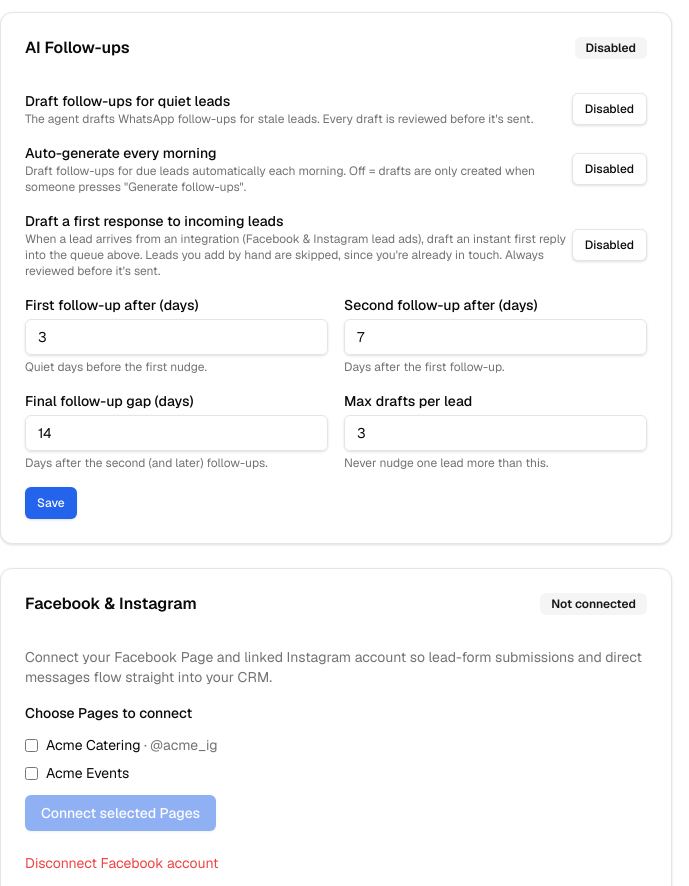
Test: Settings → Integrations → Facebook & Instagram › surfaces per-Page failures instead of pretending they connected
The image size is (689, 886).
(page scrolled)
Click the checkbox labelled "Acme Events". click: (32, 773)
box: [25, 766, 38, 780]
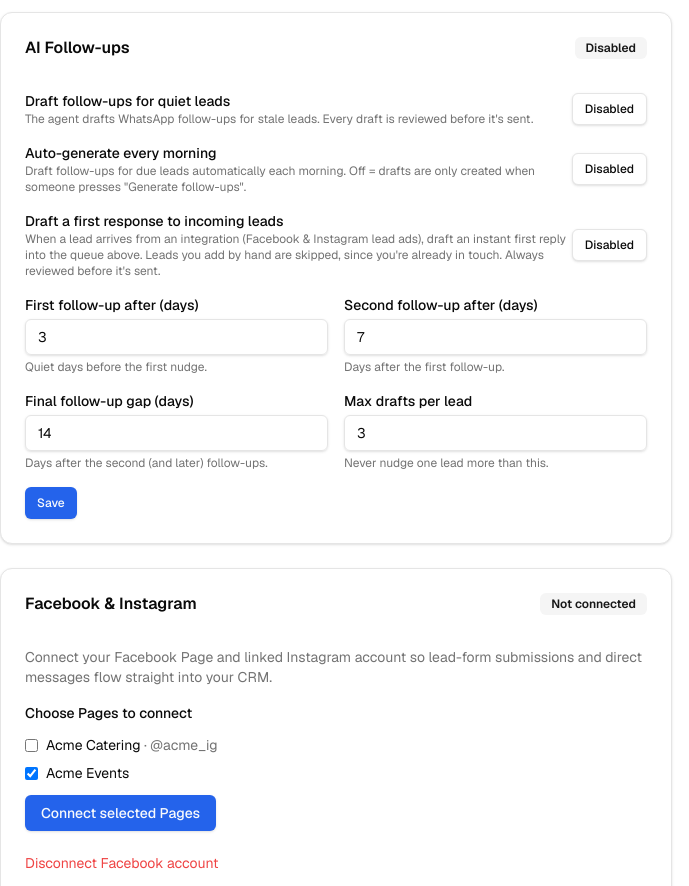
Click the button "Connect selected Pages". click: (121, 813)
box: [25, 795, 216, 831]
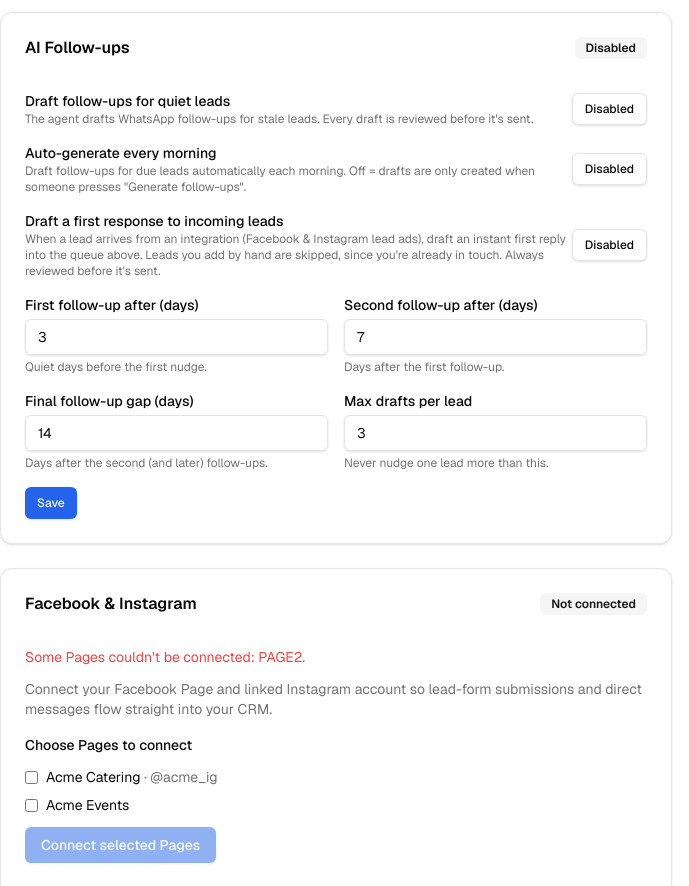
Check: the text "Some Pages couldn't be connected: PAGE2." is shown, box [25, 648, 305, 666]
